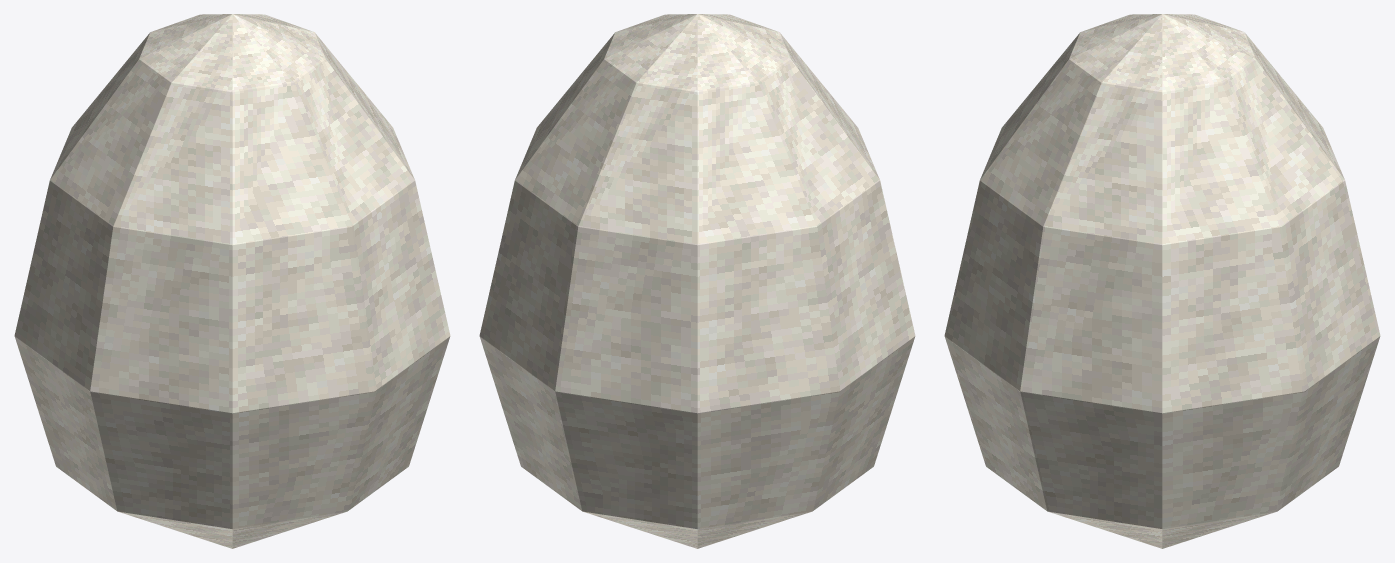
The model's file is ovo.glb.
3 views of the same model, side by side, from view 1: azimuth 30°, elevation 25°; view 2: azimuth 150°, elevation 25°; view 3: azimuth 270°, elevation 25° (orthographic).
Parts seen in each view (by area): view 1: ovo; view 2: ovo; view 3: ovo.
Part boxes in pixels (bbox=[...]): ovo: bbox=[14, 14, 450, 548]; ovo: bbox=[479, 14, 915, 548]; ovo: bbox=[944, 14, 1380, 548].
Bounding box in the file's own units: 0.2037 × 0.28 × 0.2068.
Materials: 1 (1 with a texture image).
